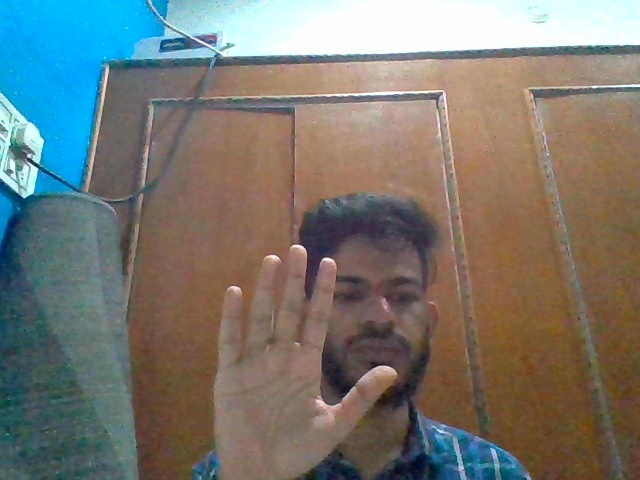hello: (209, 239, 403, 480)
